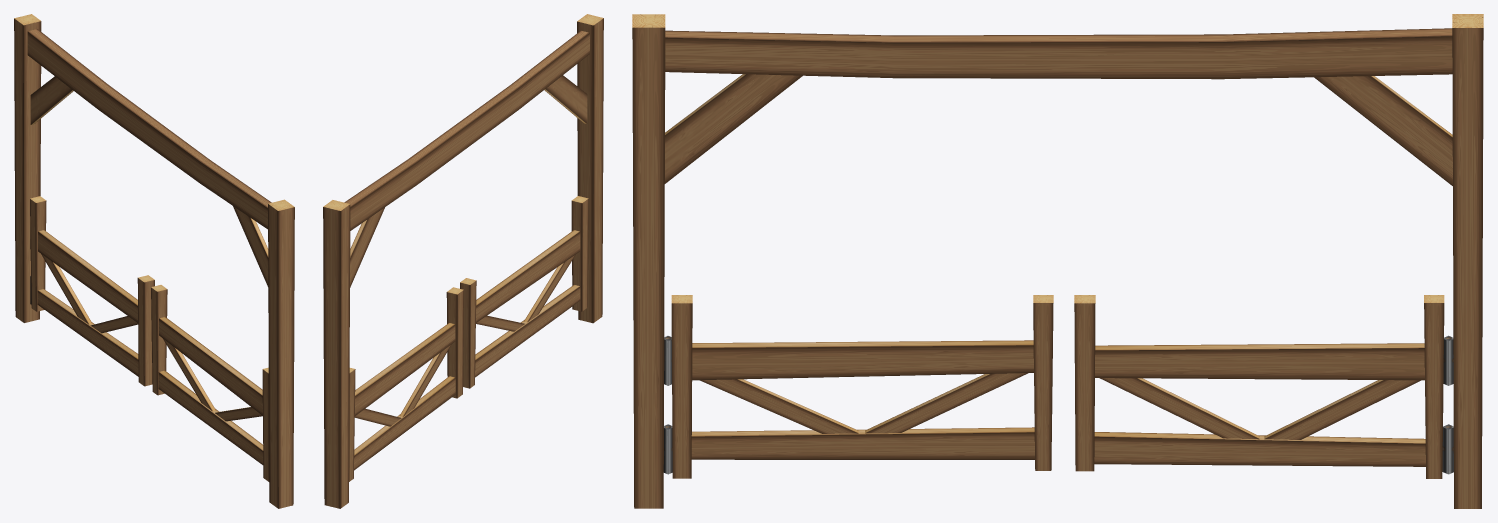
Rendered from Fence_D.FBX.
The picture shows the model from 3 angles, left to right: view 1: azimuth 30°, elevation 25°; view 2: azimuth 150°, elevation 25°; view 3: azimuth 270°, elevation 25°; orthographic projection. The views are drawn at different scales.
Parts seen in each view (by area): view 1: Fence_D, Door_B, Door_A; view 2: Fence_D, Door_A, Door_B; view 3: Fence_D, Door_A, Door_B.
Boxes of the visible parts, <box> form: Fence_D: <box>14,14,294,508</box>; Door_B: <box>30,196,154,386</box>; Door_A: <box>151,285,269,481</box>; Fence_D: <box>323,14,603,508</box>; Door_A: <box>460,196,588,388</box>; Door_B: <box>349,287,463,481</box>; Fence_D: <box>632,14,1483,508</box>; Door_A: <box>663,295,1053,478</box>; Door_B: <box>1074,295,1453,478</box>.
Size of the model in its own units: 0.1722 by 2.78 by 4.45.
